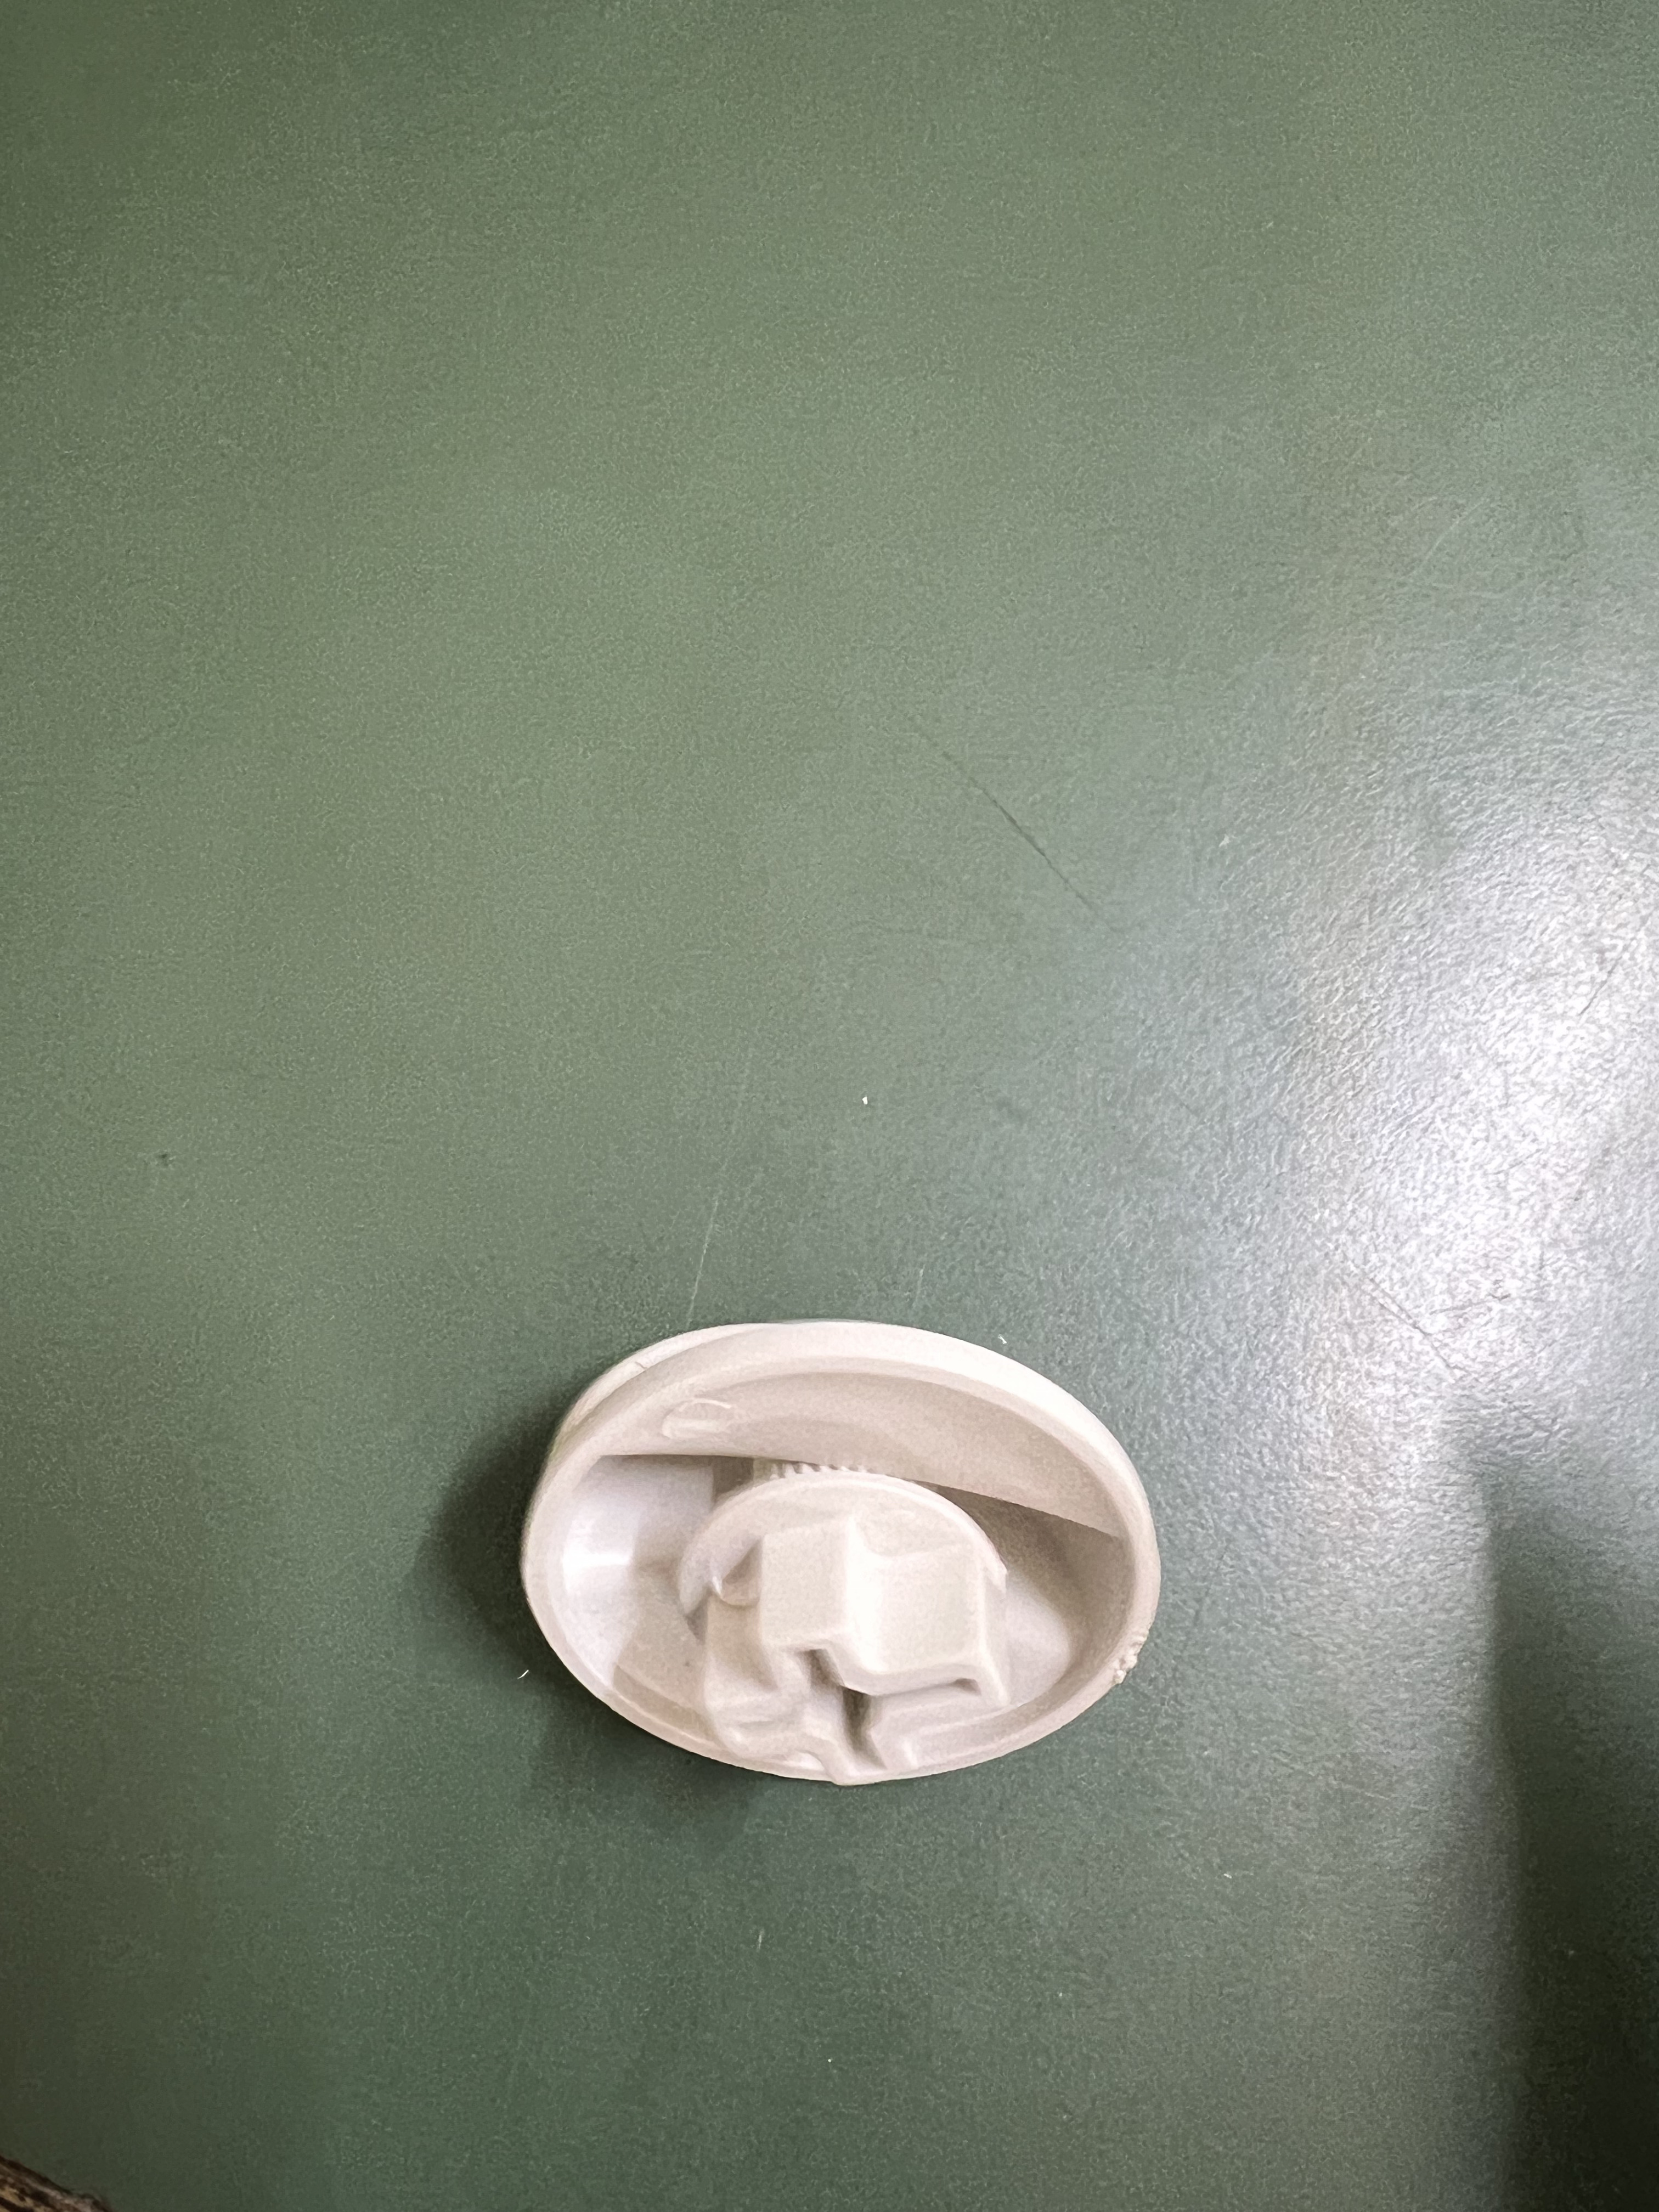regulator: (495, 1310, 1173, 1813)
